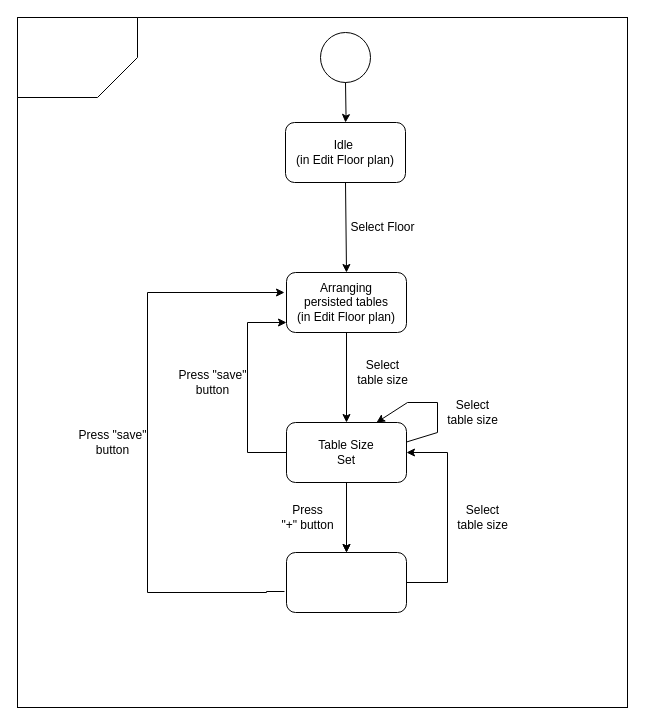
The diagram is 645 pixels wide and 725 high, and some of its shapes have lost their labels. Each missing label, with the box of its shape:
Add table: (16, 16, 138, 98)
Arranging new tables (in Edit Floor plan): (286, 552, 406, 612)
